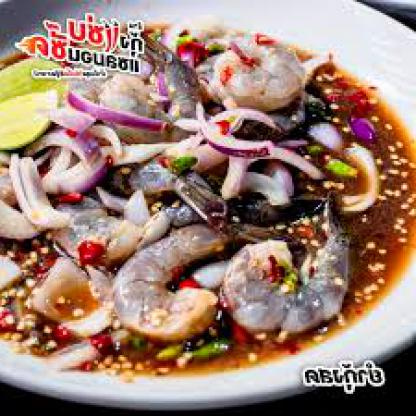Yum: (5, 14, 415, 416)
